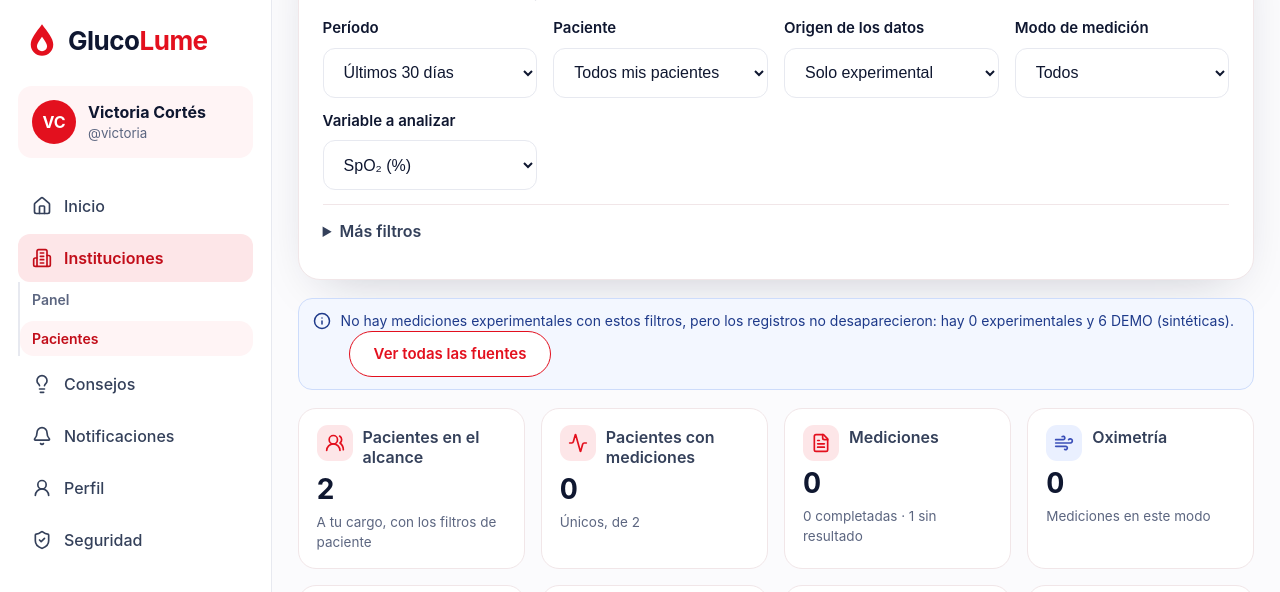
Scenario: Análisis detallado de mediciones › con «solo experimental» y únicamente DEMO explica los totales por origen y permite ver todas las fuentes
(page scrolled)
Expected: the text "los registros no desaparecieron" shows "0 experimentales y 6 DEMO", x1=341 y1=311 x2=1239 y2=377
Click the button "Ver todas las fuentes" at (450, 354), box x1=349 y1=331 x2=551 y2=377
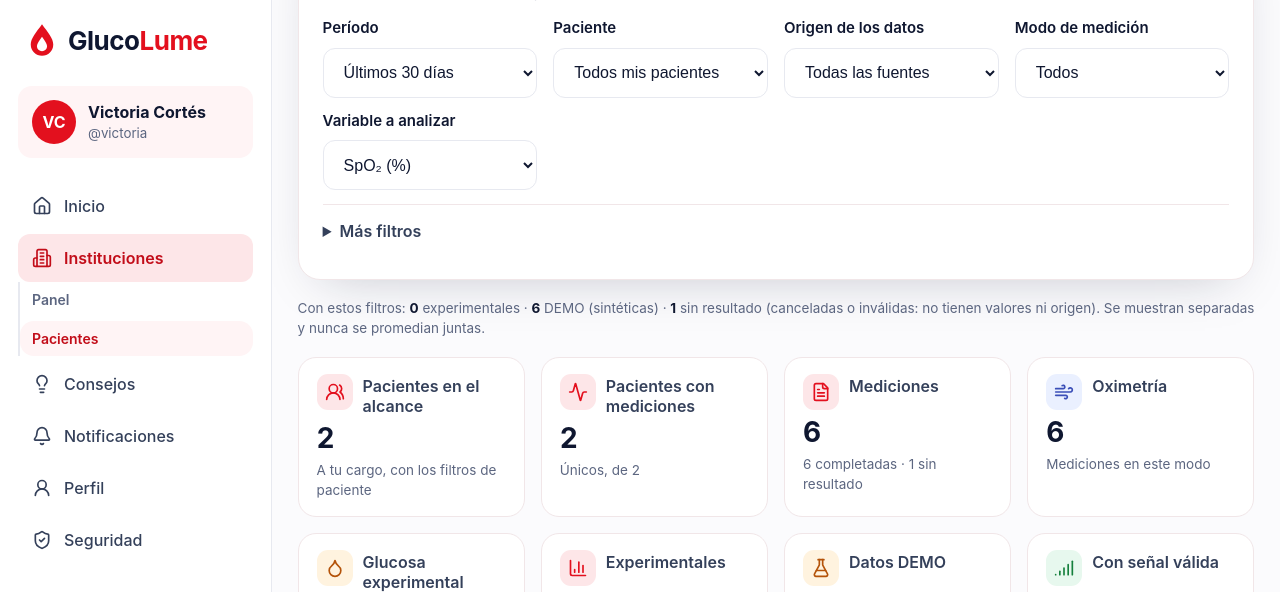
Now the text "Con estos filtros:" shows "0 experimentales · 6 DEMO", box x1=298 y1=298 x2=1254 y2=338
Now the text "los registros no desaparecieron" is gone
